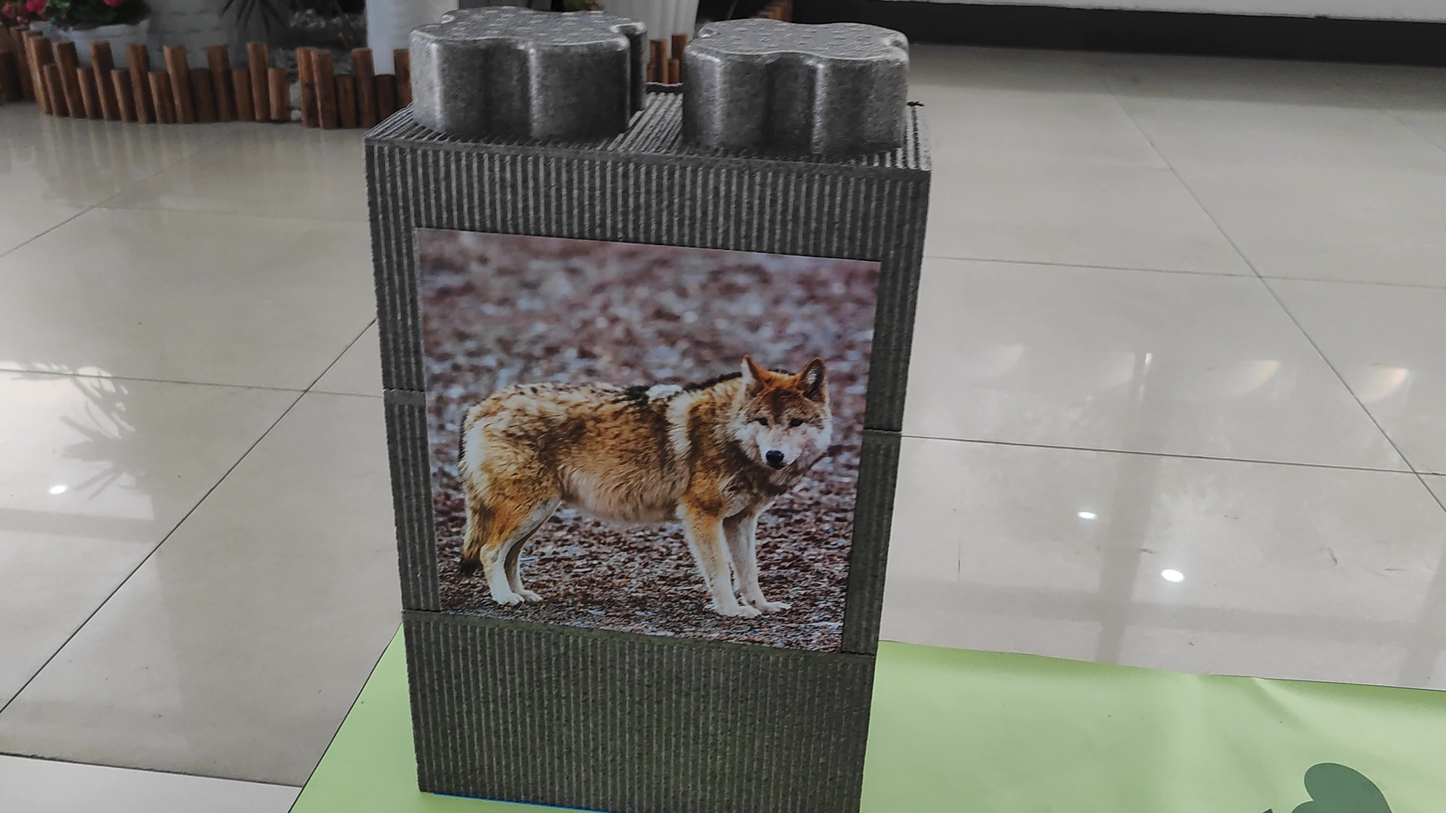wolf: (432, 236, 840, 610)
